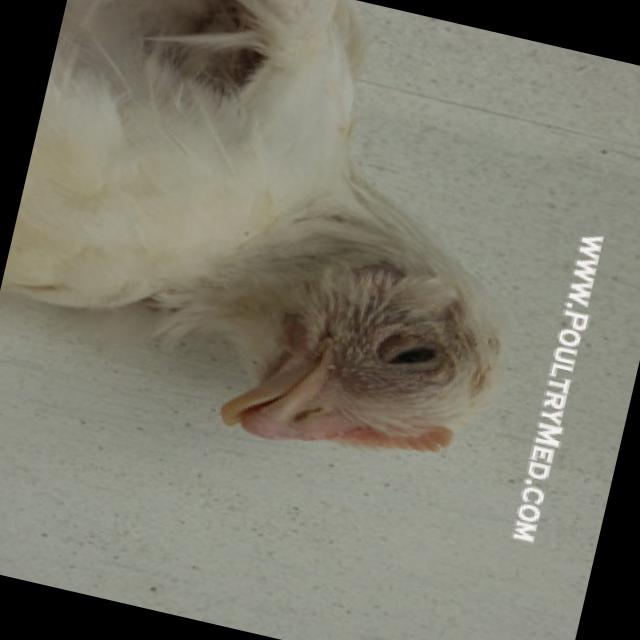Infectios bronchitis: (203, 243, 517, 488)
